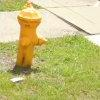a fire hydrant: (16, 5, 42, 70)
